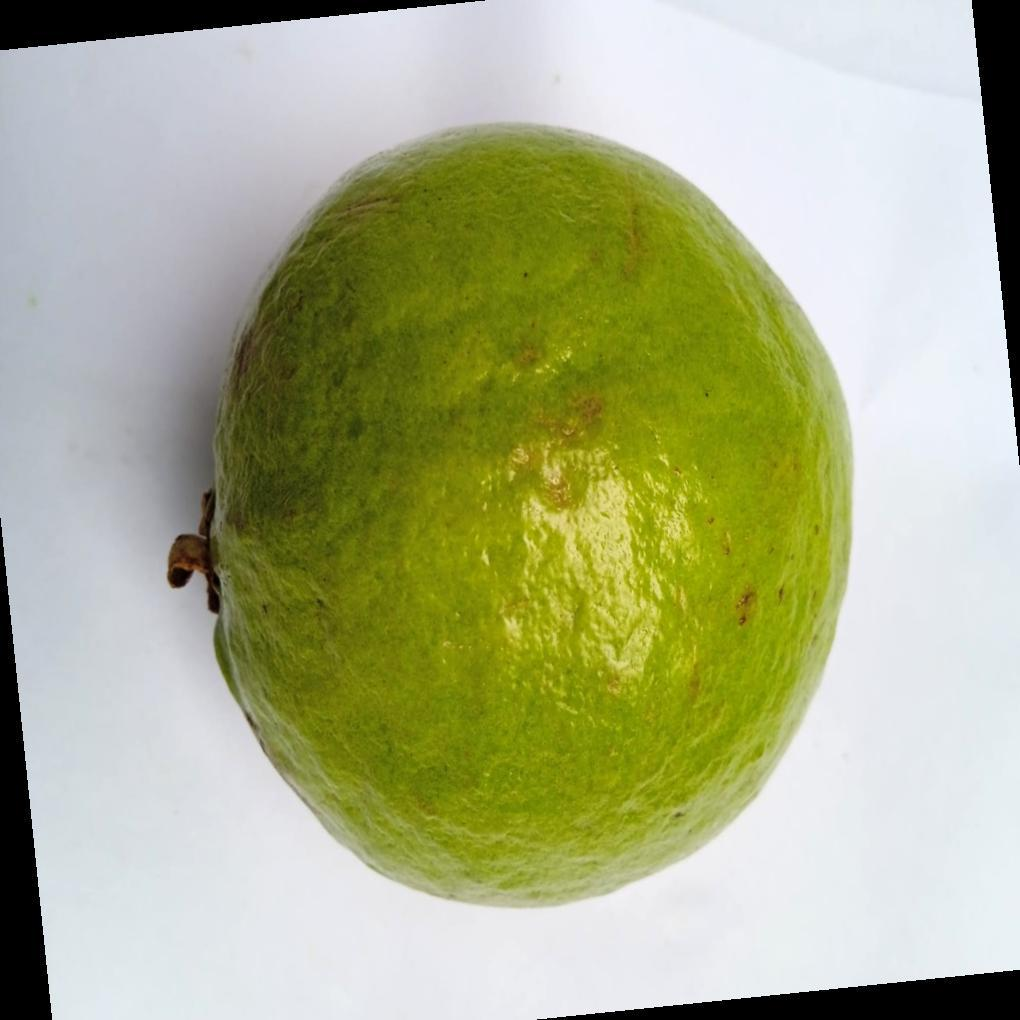FreshGuava: (172, 124, 854, 912)
